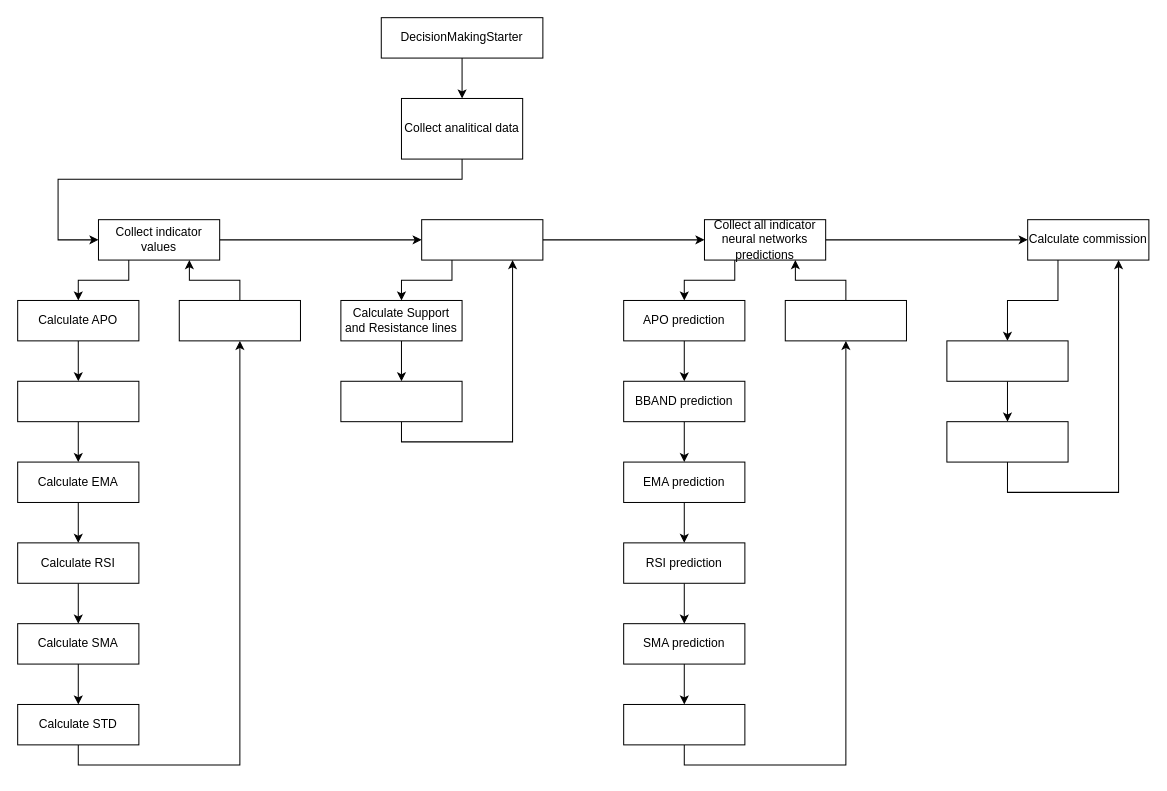
This 1167x791 diagram has some shape labels left out. The box of each missing label's shape, as (x1, y1, x2, y2) in pixels:
Calculate BBAND: (17, 380, 139, 422)
Calculate commission on buying the stocks: (946, 340, 1068, 381)
Calculate commission on selling the stocks: (946, 421, 1068, 462)
Collect technical analyze data: (421, 219, 543, 260)
Find out current trend: (340, 380, 462, 422)
Save all collected indicators in DB: (178, 299, 300, 341)
Save all predictions: (784, 299, 906, 341)
STD prediction: (623, 703, 745, 745)
